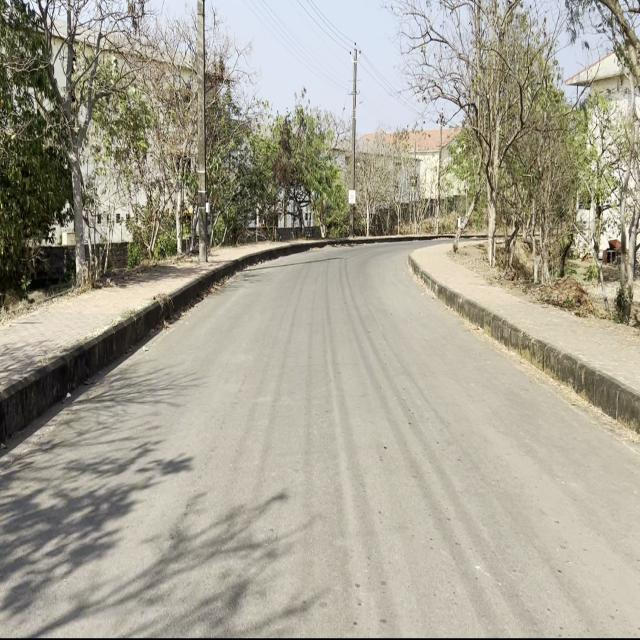Road: (1, 243, 638, 635)
